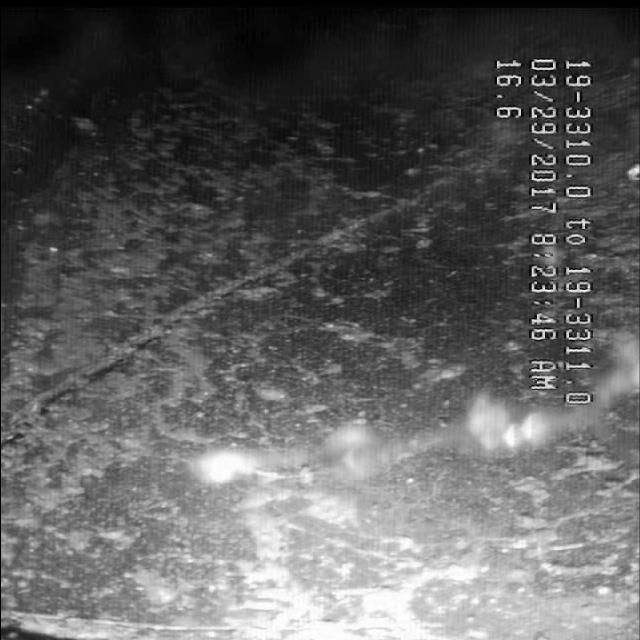Crack: (88, 170, 450, 398)
